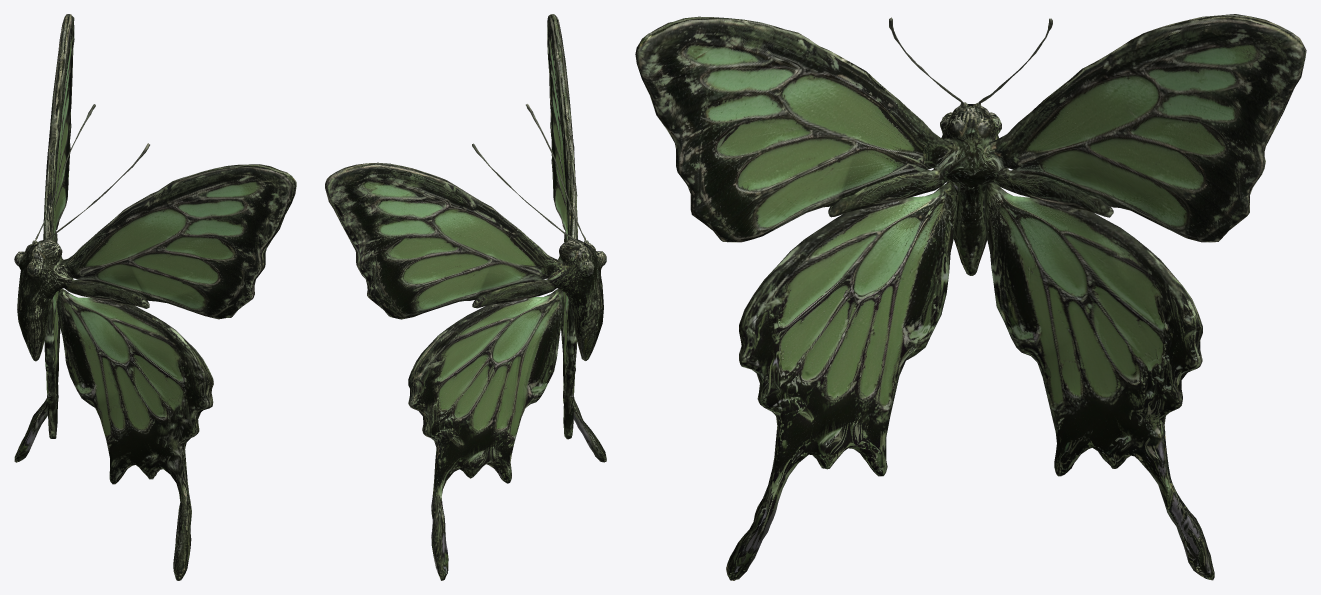
Rendered from green+glass+butterfly+3d+model.fbx.
3 renders of one model, left to right at view 1: azimuth 30°, elevation 25°; view 2: azimuth 150°, elevation 25°; view 3: azimuth 270°, elevation 25°, orthographic. The views are drawn at different scales.
Visible parts, largest first — view 1: meshes[0]; view 2: meshes[0]; view 3: meshes[0].
Part boxes in pixels (x1,y1,x2,y2): meshes[0]: (14,14,296,580); meshes[0]: (325,14,606,580); meshes[0]: (635,14,1306,580).
Size of the model in its own units: 0.4199 by 0.998 by 0.998.
1 material, 1 textured.
